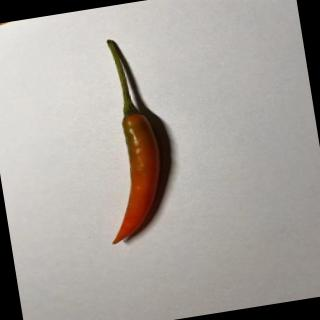Cabai Merah: (81, 35, 173, 246)
